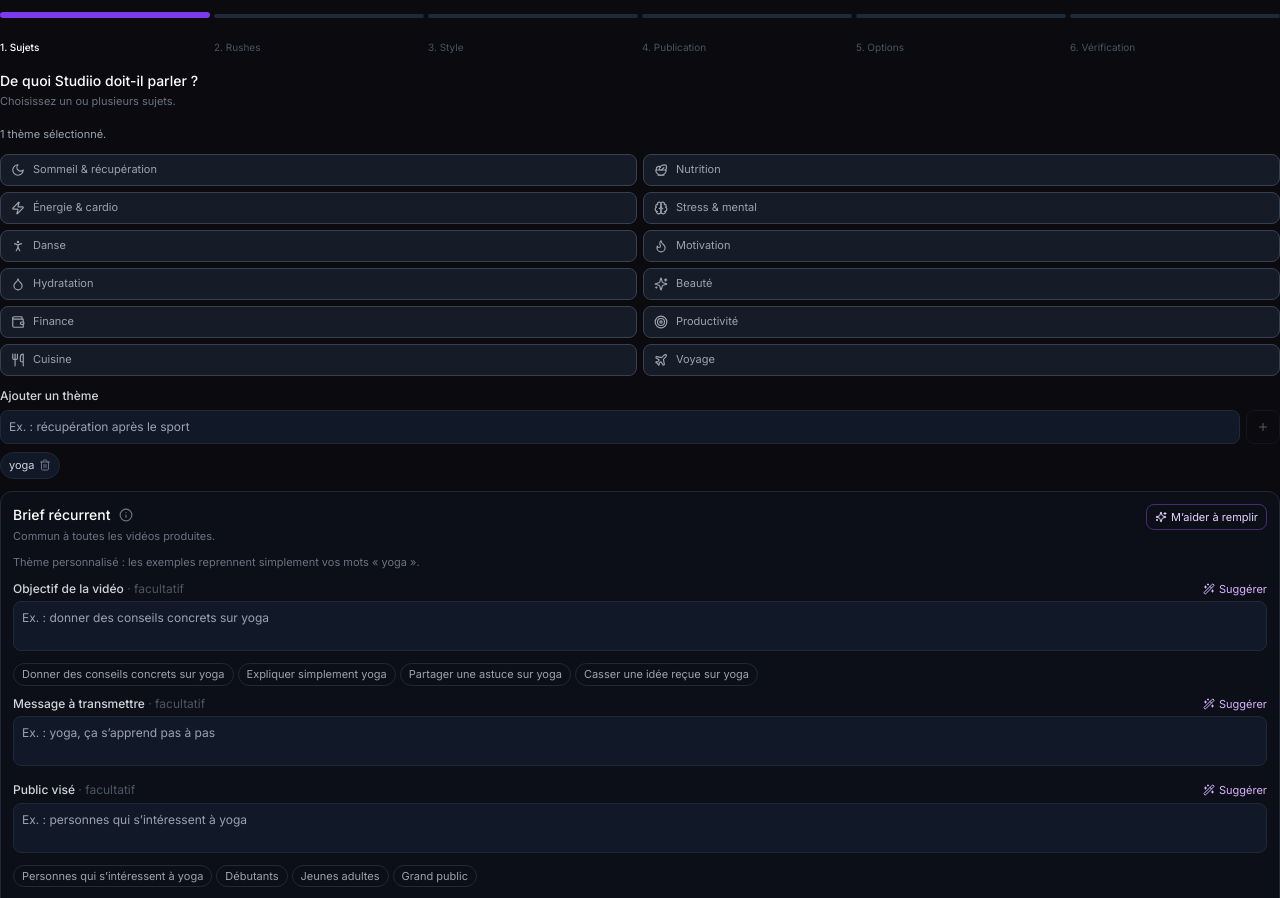
Scenario: Écran — validation par combinaison › avatar demandé mais pas prêt : bloqué, « Aucun avatar prêt » et lien « Configurer mon avatar »
Click the button named "Rushes" at (319, 16), box [214,14,424,18]
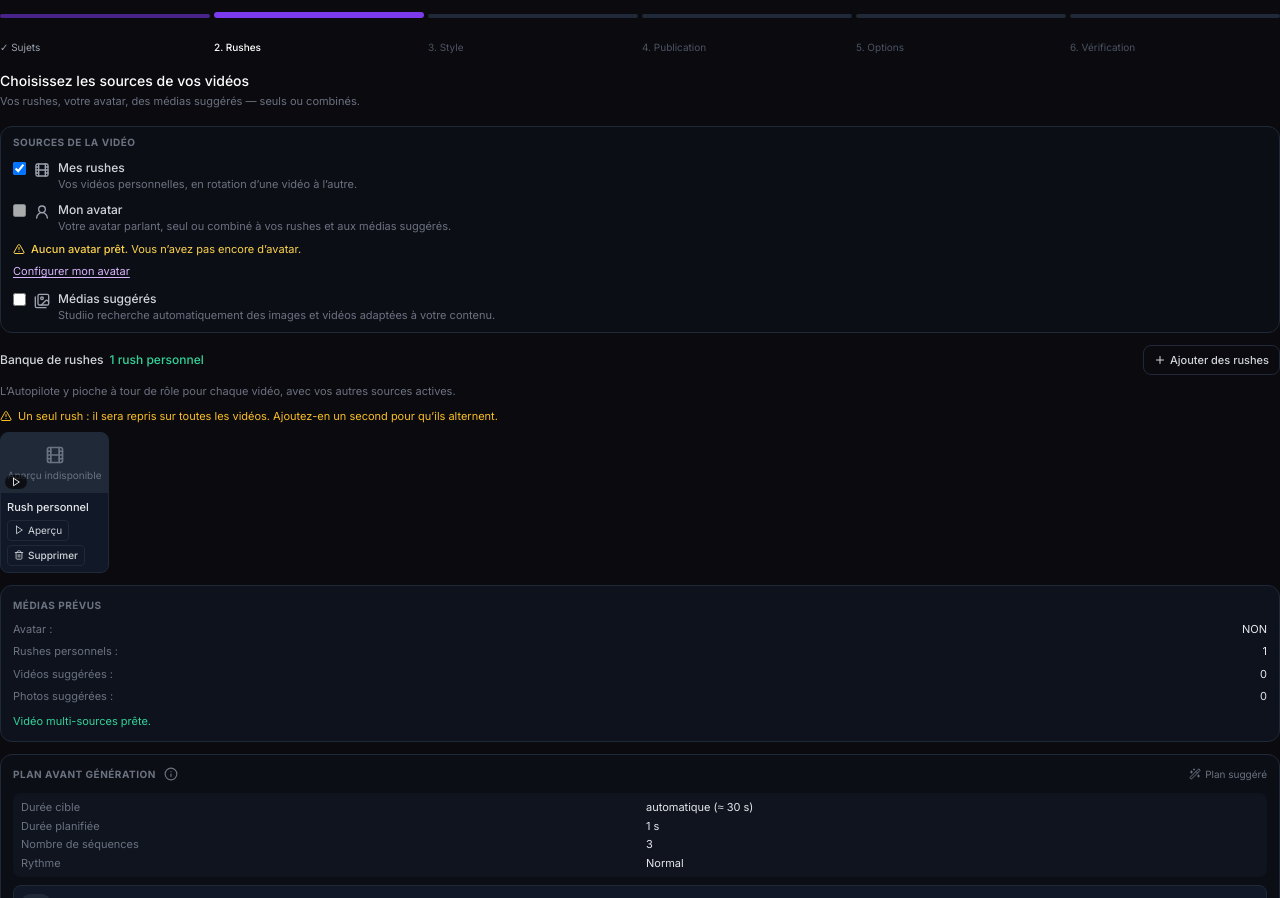
Result: the element that starts with "Sources de la vidéo" is shown at [0,126,1279,332]
Result: the text "Aucun avatar prêt." is shown at [31,242,128,256]
Result: the 2nd checkbox is disabled at [13,204,26,217]
